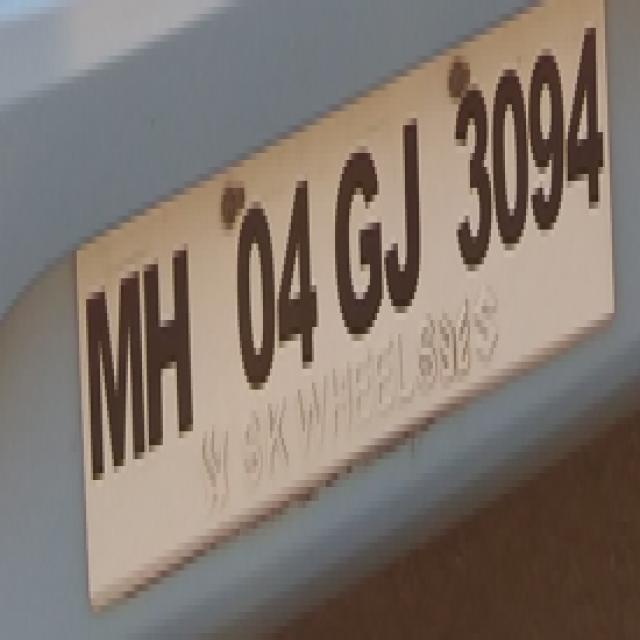0: (228, 198, 280, 396), (488, 49, 530, 254)
3: (450, 83, 497, 290)
4: (562, 2, 610, 230), (275, 184, 325, 380)
9: (526, 36, 572, 256)
G: (328, 140, 387, 333)
H: (144, 233, 200, 468)
J: (380, 119, 430, 325)
M: (82, 276, 153, 479)
